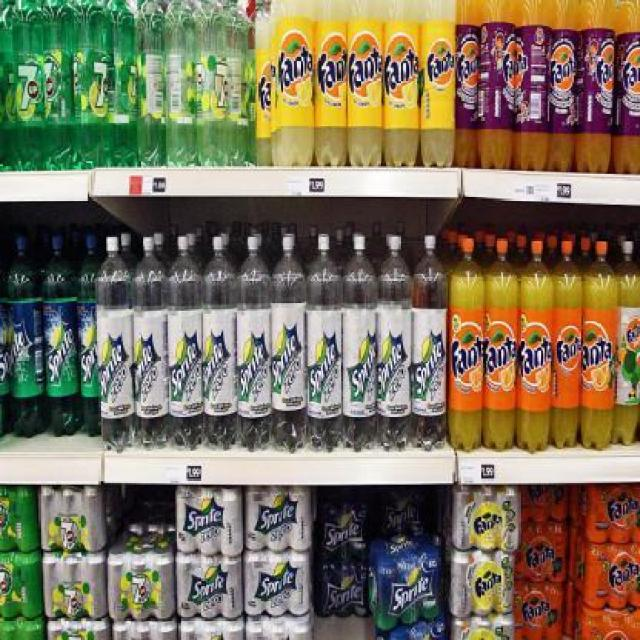Drinks: (166, 235, 205, 453), (203, 236, 242, 450), (579, 239, 618, 452), (95, 234, 133, 452), (306, 234, 343, 454), (236, 235, 273, 454), (516, 239, 553, 455), (133, 237, 170, 452), (342, 235, 378, 453), (272, 236, 308, 453), (411, 235, 447, 452), (8, 234, 46, 438), (482, 237, 518, 452), (449, 238, 485, 452), (377, 235, 412, 453), (44, 233, 79, 438), (548, 240, 582, 449), (370, 536, 445, 630), (515, 0, 552, 172), (578, 0, 615, 172), (479, 0, 516, 171), (419, 0, 456, 168), (12, 0, 48, 171), (276, 0, 313, 166), (107, 532, 176, 620), (383, 0, 419, 166), (348, 0, 383, 168), (545, 0, 579, 172), (73, 0, 107, 168), (314, 0, 348, 168), (612, 239, 639, 447), (78, 233, 105, 438), (107, 0, 139, 168), (195, 0, 227, 168), (43, 0, 74, 171), (174, 485, 243, 557), (138, 1, 167, 168), (166, 0, 194, 169), (36, 487, 106, 553), (452, 485, 520, 552), (243, 486, 312, 552), (176, 554, 244, 620), (243, 552, 312, 617), (42, 554, 108, 620), (450, 551, 515, 617), (614, 0, 638, 174), (312, 487, 370, 559), (456, 0, 479, 169), (583, 544, 640, 610), (312, 556, 370, 618), (369, 486, 437, 536), (586, 484, 640, 545), (516, 522, 570, 582), (514, 582, 568, 638), (521, 483, 568, 522)
